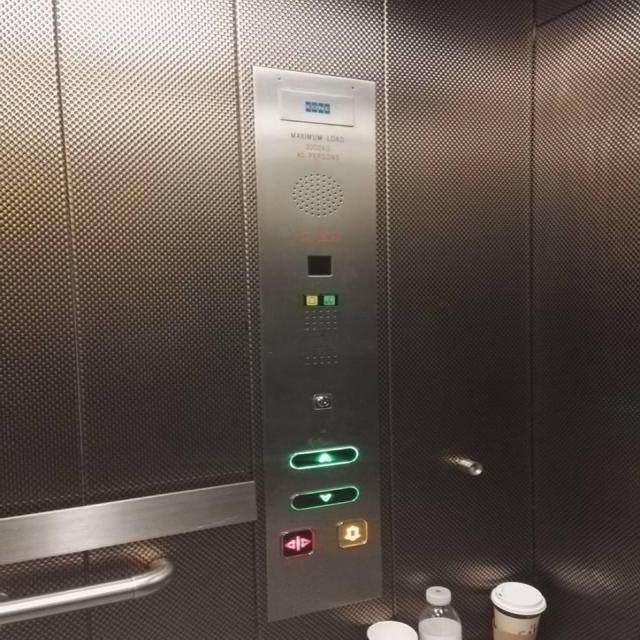alarm: (333, 517, 368, 548), (303, 293, 318, 306)
blur: (320, 293, 337, 306)
down: (288, 485, 359, 509)
keyhole: (311, 392, 331, 409)
led: (305, 254, 332, 276)
open: (278, 526, 314, 559)
up: (287, 445, 358, 469)
